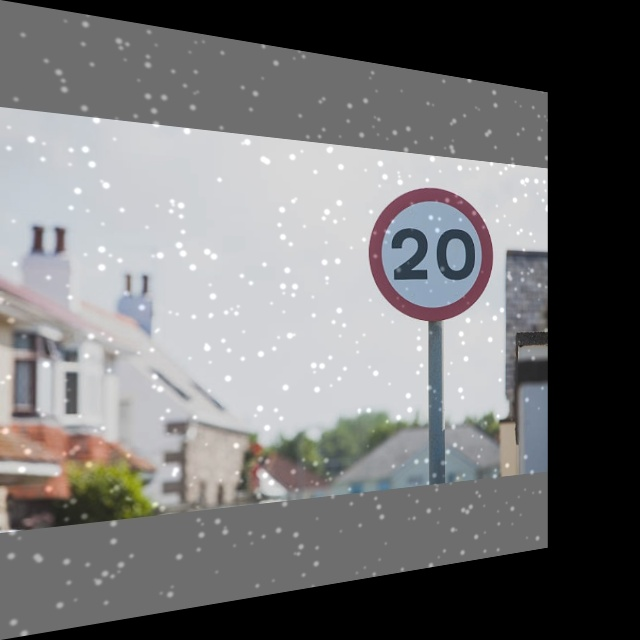Speed_Limit_20: (371, 184, 489, 319)
